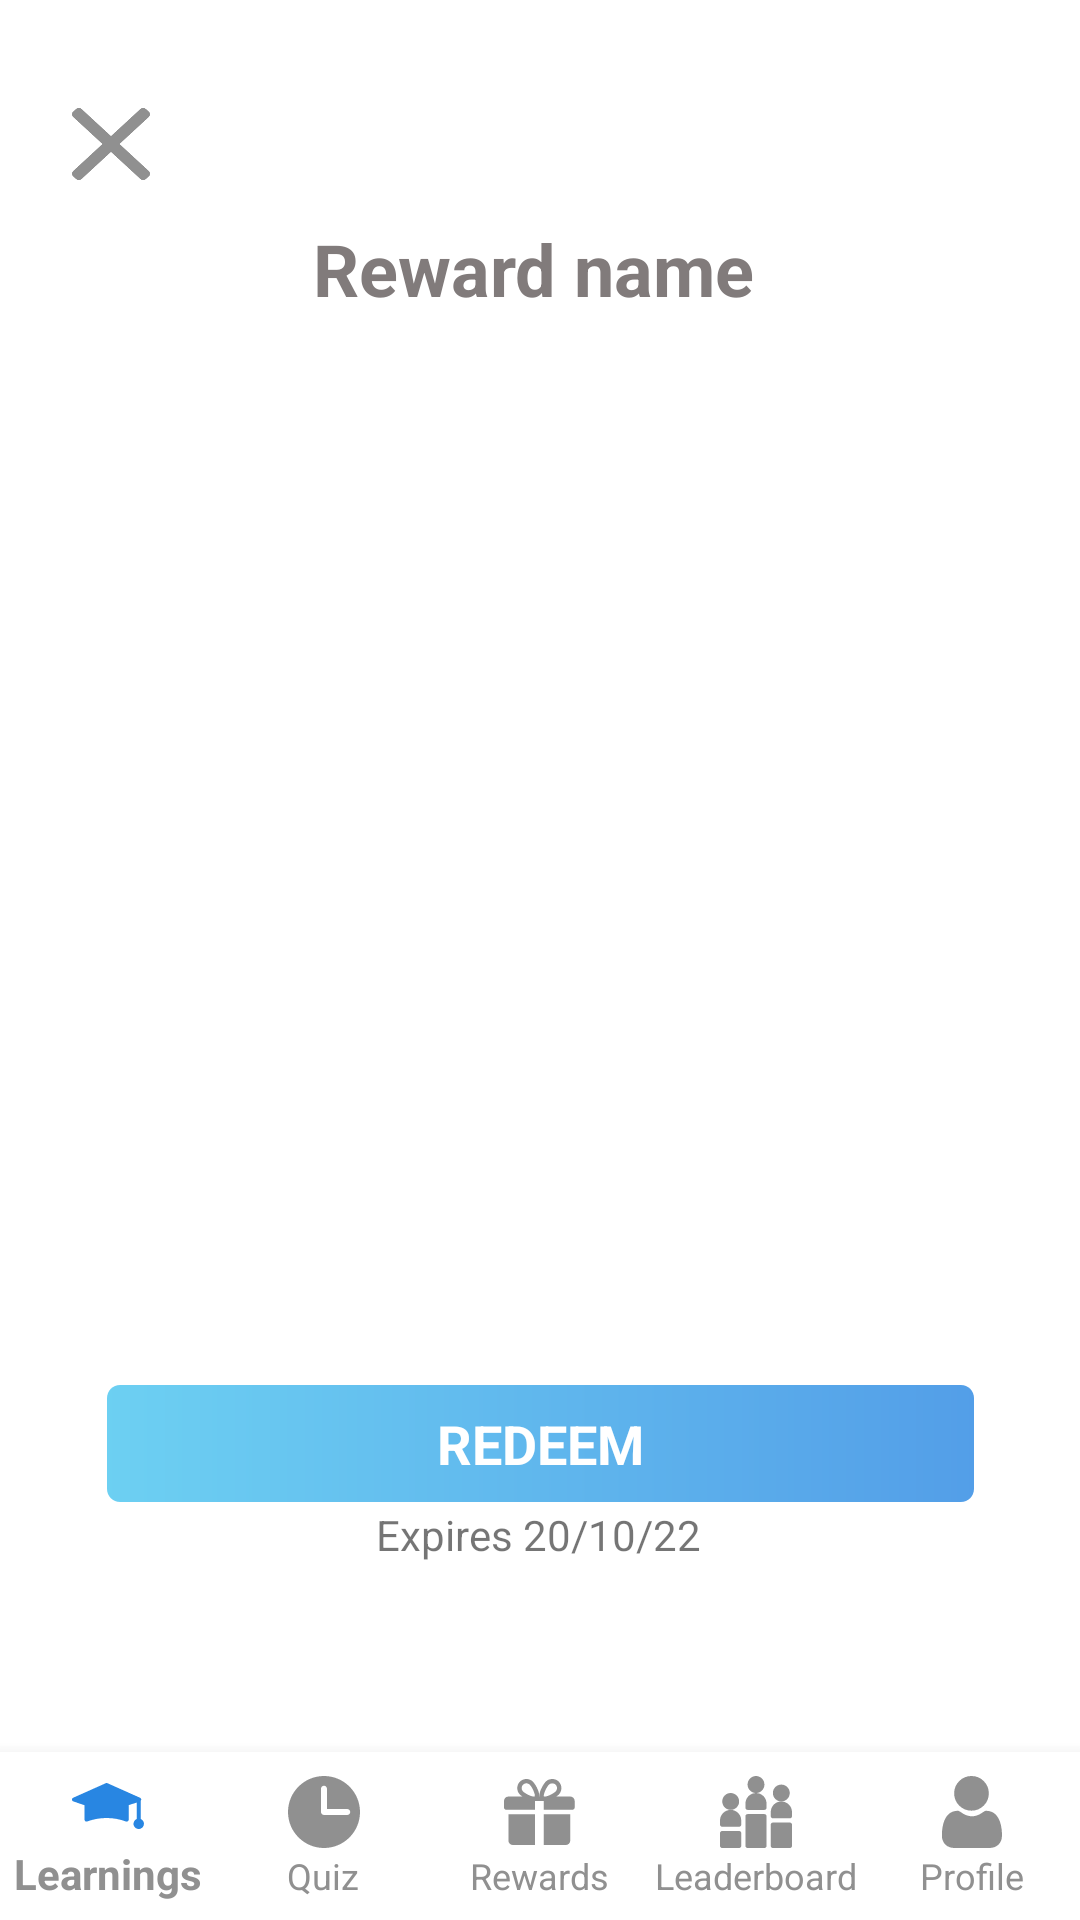

Where icons sit on this 1080px x 1920px app screen, as (x1=x1, y1=y1, x2=x2, y2=y2):
cancel: (x1=72, y1=108, x2=150, y2=180)
